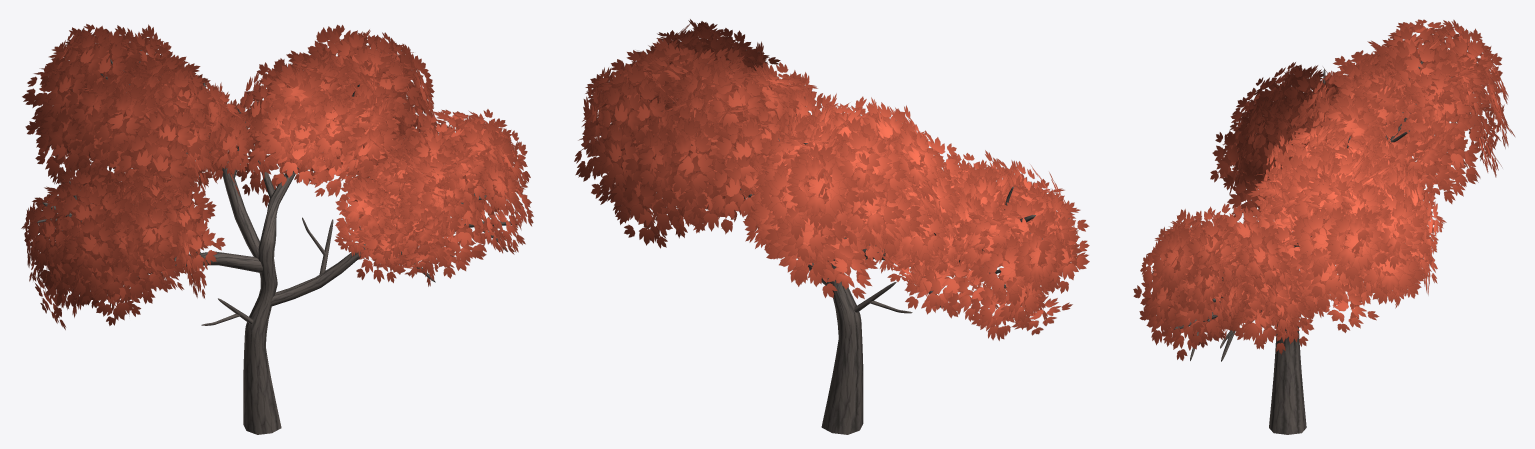
Rendered from MapleTree_3.gltf.
3 renders of one model, left to right at view 1: azimuth 30°, elevation 25°; view 2: azimuth 150°, elevation 25°; view 3: azimuth 270°, elevation 25°, orthographic. The views are drawn at different scales.
Visible parts, largest first — view 1: MapleTree_3; view 2: MapleTree_3; view 3: MapleTree_3.
Boxes of the visible parts, x1,y1,x2,y2 form: MapleTree_3: (21,24,533,434); MapleTree_3: (574,19,1089,434); MapleTree_3: (1133,19,1514,434).
Size of the model in its own units: 8.98 by 6.99 by 6.61.
Materials: 2 (2 with a texture image).
